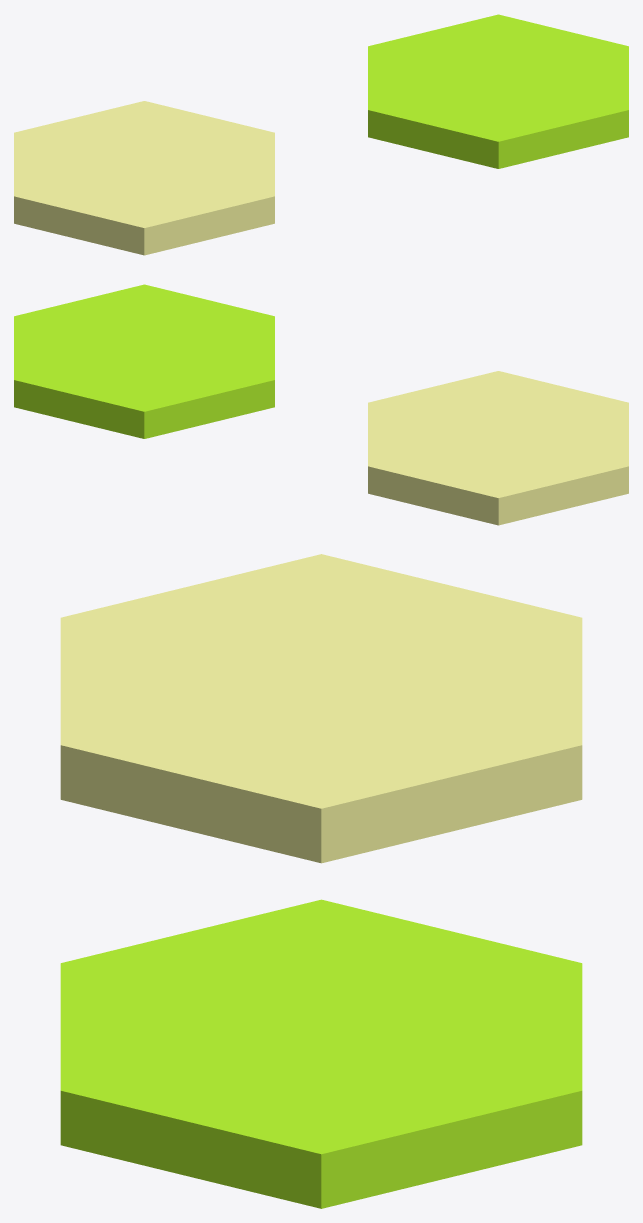
Rendered from hex-tiles.gltf.
3 views of the same model, one above another, from view 1: azimuth 30°, elevation 25°; view 2: azimuth 150°, elevation 25°; view 3: azimuth 270°, elevation 25° (orthographic). The views are drawn at different scales.
Visible parts, largest first — view 1: MAS_C_T_GRASS_TILE, MAS_C_T_DEFAULT_TILE; view 2: MAS_C_T_GRASS_TILE, MAS_C_T_DEFAULT_TILE; view 3: MAS_C_T_GRASS_TILE, MAS_C_T_DEFAULT_TILE.
Part boxes in pixels (x1,y1,x2,y2): MAS_C_T_GRASS_TILE: [368, 14, 628, 168]; MAS_C_T_DEFAULT_TILE: [14, 101, 274, 255]; MAS_C_T_GRASS_TILE: [14, 284, 274, 438]; MAS_C_T_DEFAULT_TILE: [368, 371, 628, 525]; MAS_C_T_GRASS_TILE: [60, 899, 582, 1208]; MAS_C_T_DEFAULT_TILE: [60, 554, 582, 863].
Bounding box in the file's own units: 2.36 × 0.1 × 0.866.
